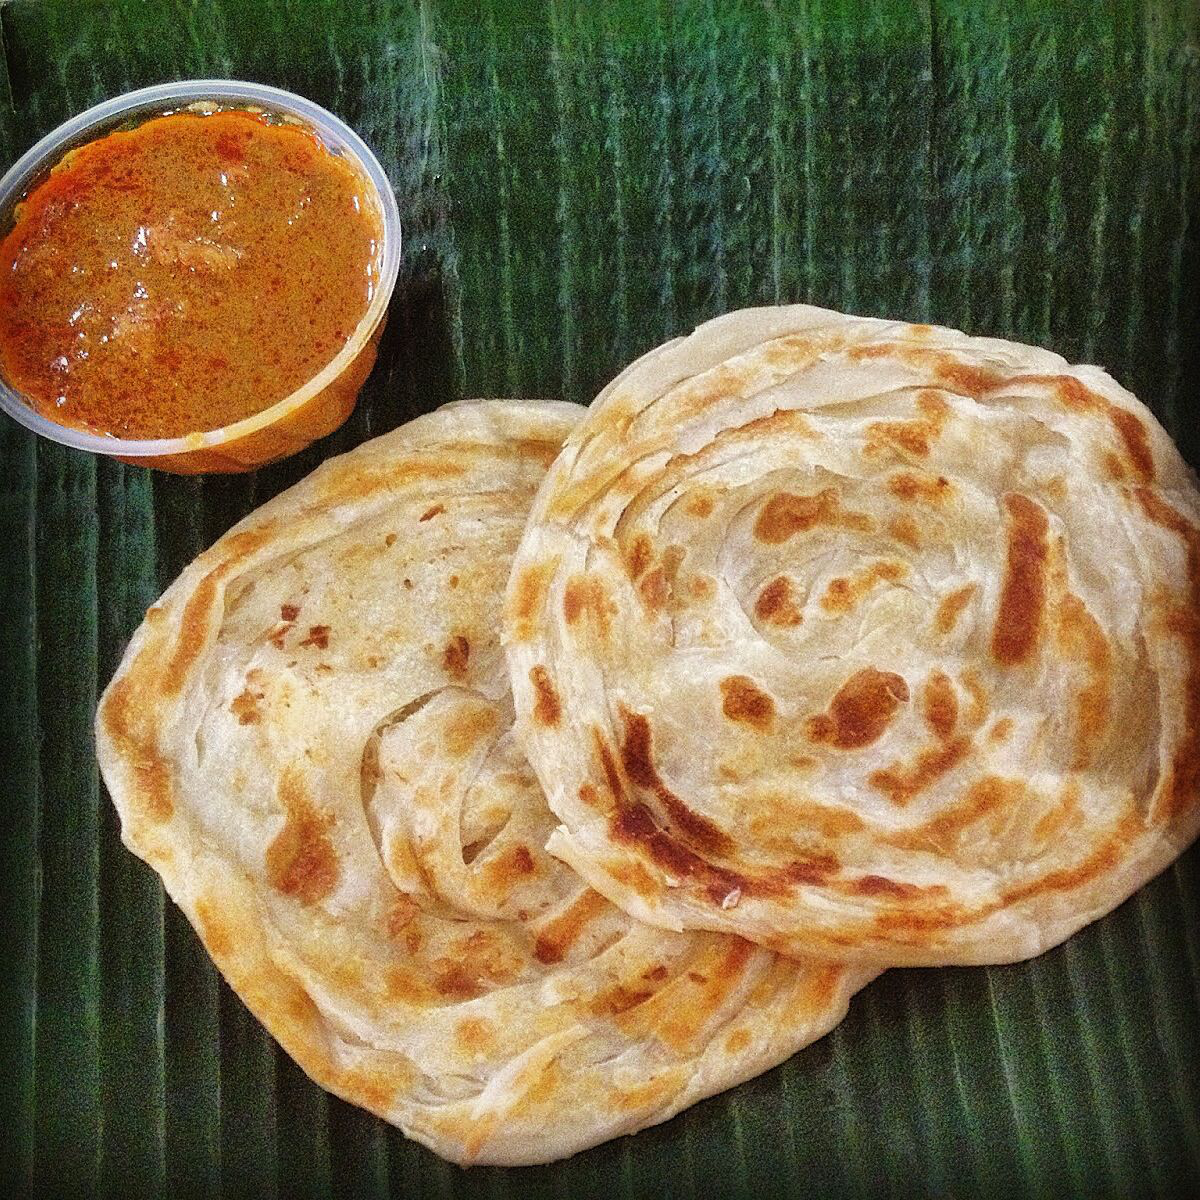Prata: (130, 373, 869, 1120), (488, 279, 1199, 958)
